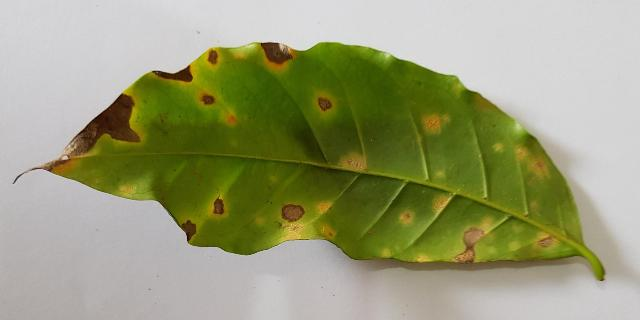miner: (38, 86, 141, 176), (154, 48, 221, 85), (451, 220, 491, 263), (517, 144, 550, 181), (261, 42, 296, 71), (281, 205, 307, 241), (334, 152, 367, 173), (422, 113, 449, 132), (532, 232, 556, 247), (432, 197, 450, 216), (208, 197, 225, 216), (182, 221, 196, 240), (198, 91, 216, 105), (318, 97, 332, 112), (399, 211, 413, 222), (318, 203, 331, 213), (322, 227, 333, 236), (227, 113, 236, 124), (122, 187, 133, 195), (495, 143, 503, 153), (235, 52, 245, 59), (417, 257, 428, 261)
